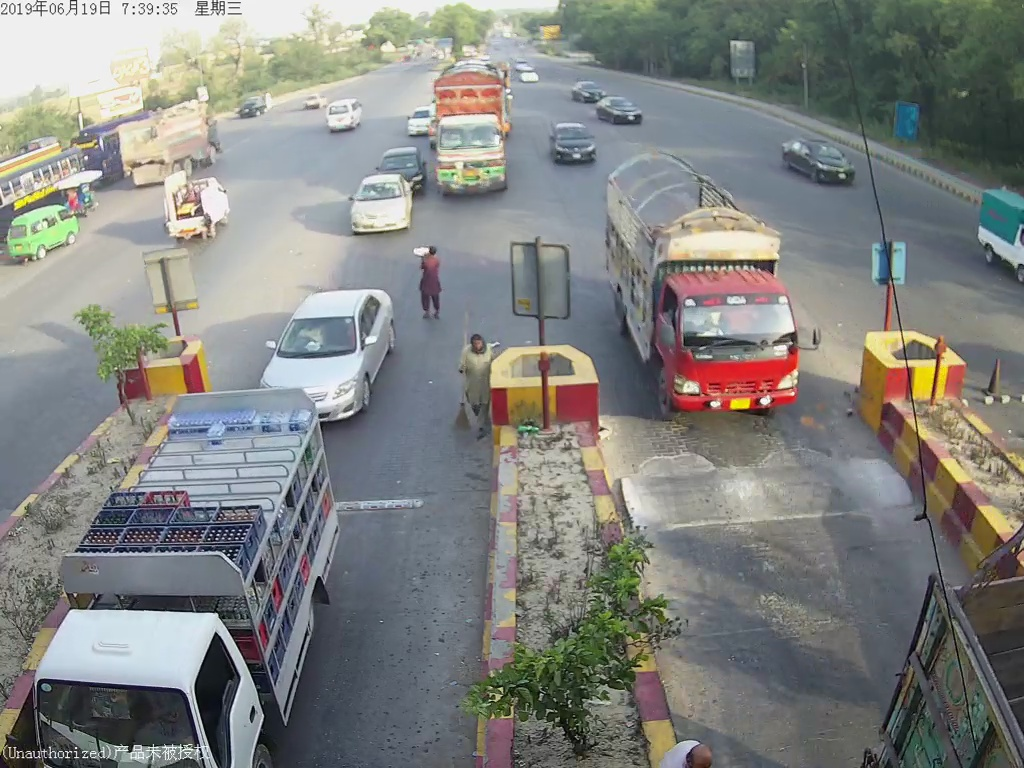Cat-1: (260, 290, 407, 412), (346, 181, 417, 235), (543, 127, 595, 164)
Cat-4: (607, 149, 802, 423), (433, 66, 511, 198)
